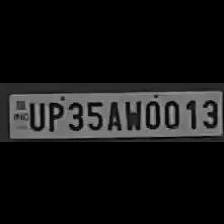0: (141, 96, 161, 128), (160, 96, 180, 128)
1: (182, 96, 198, 128)
3: (64, 97, 84, 130), (199, 96, 219, 128)
5: (84, 97, 104, 129)
A: (104, 97, 122, 130)
P: (44, 98, 64, 132)
U: (26, 98, 44, 130)
W: (122, 96, 140, 130)
